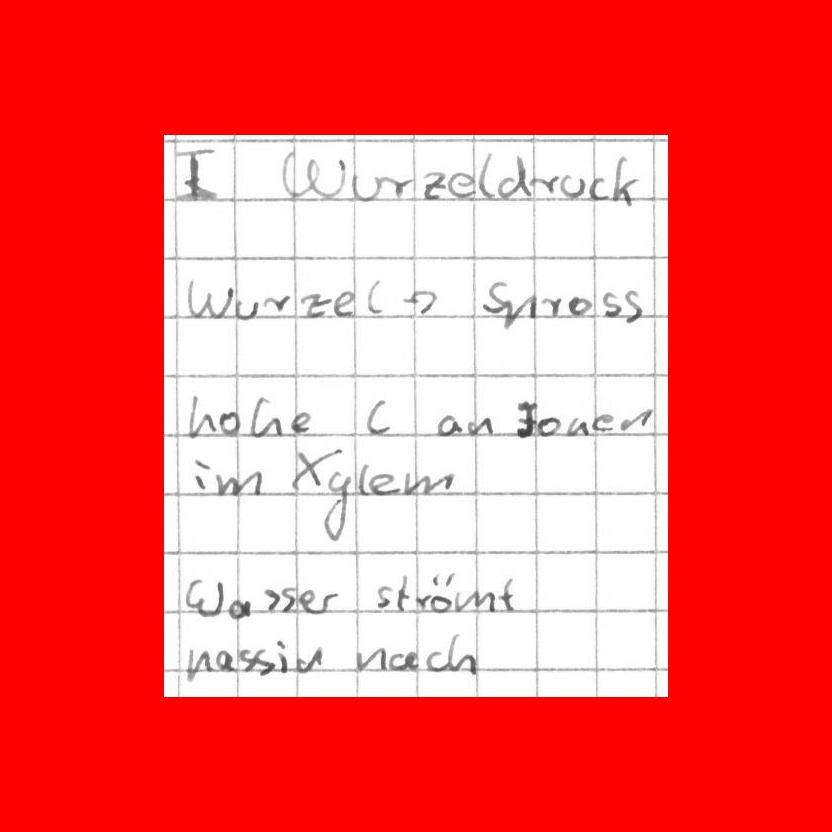Char: (277, 147, 348, 202), (166, 143, 219, 202), (321, 467, 353, 542), (185, 277, 234, 321), (494, 151, 532, 200), (289, 447, 330, 491), (182, 576, 224, 618), (247, 394, 286, 439), (608, 154, 640, 208), (445, 631, 479, 677), (186, 392, 218, 440), (214, 467, 264, 497), (402, 470, 456, 497), (501, 294, 537, 331), (452, 586, 495, 615), (349, 170, 383, 206), (400, 287, 441, 316), (429, 569, 454, 613), (185, 646, 214, 683), (379, 173, 415, 202), (513, 400, 539, 439), (351, 645, 387, 672), (299, 291, 332, 320), (367, 396, 392, 434), (617, 407, 653, 433), (476, 151, 495, 199), (420, 170, 448, 202), (622, 286, 645, 324), (294, 644, 324, 673), (557, 172, 587, 200), (483, 280, 507, 315), (385, 649, 420, 673), (364, 278, 386, 316), (367, 472, 400, 497), (495, 574, 516, 613), (447, 170, 475, 199), (332, 288, 356, 319), (465, 414, 497, 437), (586, 173, 612, 201), (394, 572, 411, 613), (252, 647, 276, 676), (219, 408, 242, 437), (528, 173, 559, 194), (234, 296, 260, 321), (599, 288, 621, 317), (540, 293, 564, 319), (566, 294, 593, 317), (437, 412, 464, 435), (535, 414, 562, 437), (193, 456, 211, 490), (311, 591, 335, 616), (263, 293, 291, 313), (275, 637, 291, 672), (279, 584, 298, 613), (227, 598, 251, 620), (212, 648, 234, 672), (566, 414, 589, 436), (290, 409, 311, 433), (298, 588, 316, 615), (375, 583, 393, 610), (424, 649, 445, 672), (590, 413, 616, 431), (262, 585, 280, 611), (238, 646, 255, 673), (356, 462, 369, 496), (414, 591, 432, 611)
